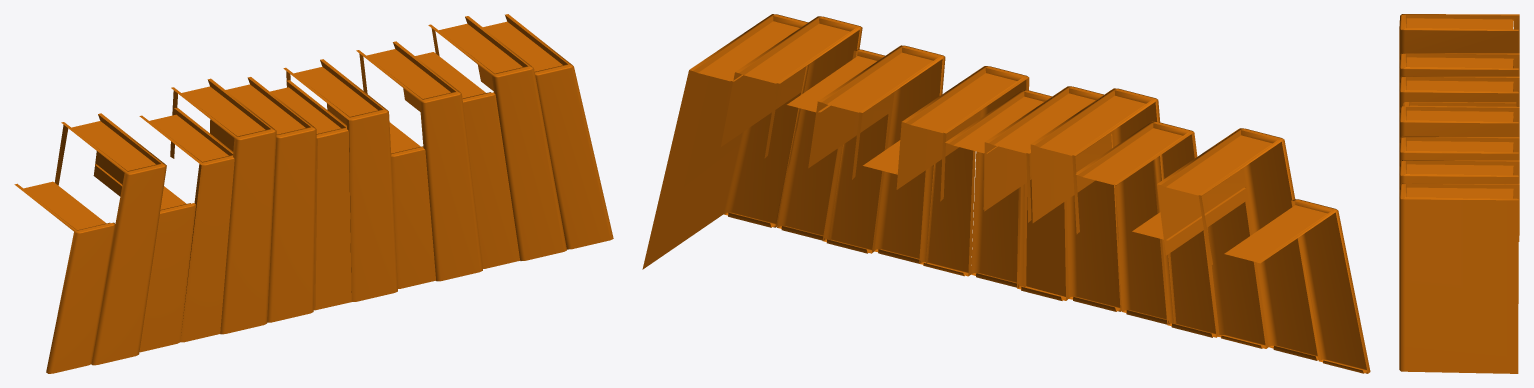
The model's file is sm_books.fbx.
The picture shows the model from 3 angles, left to right: view 1: azimuth 30°, elevation 25°; view 2: azimuth 150°, elevation 25°; view 3: azimuth 270°, elevation 25°; orthographic projection. The views are drawn at different scales.
Parts seen in each view (by area): view 1: sm_books; view 2: sm_books; view 3: sm_books.
Part boxes in pixels (left/top/right/bottom): sm_books: left=14, top=14, right=613, bottom=373; sm_books: left=642, top=14, right=1370, bottom=373; sm_books: left=1399, top=14, right=1519, bottom=373.
Bounding box in the file's own units: 214 × 69.31 × 46.06.
